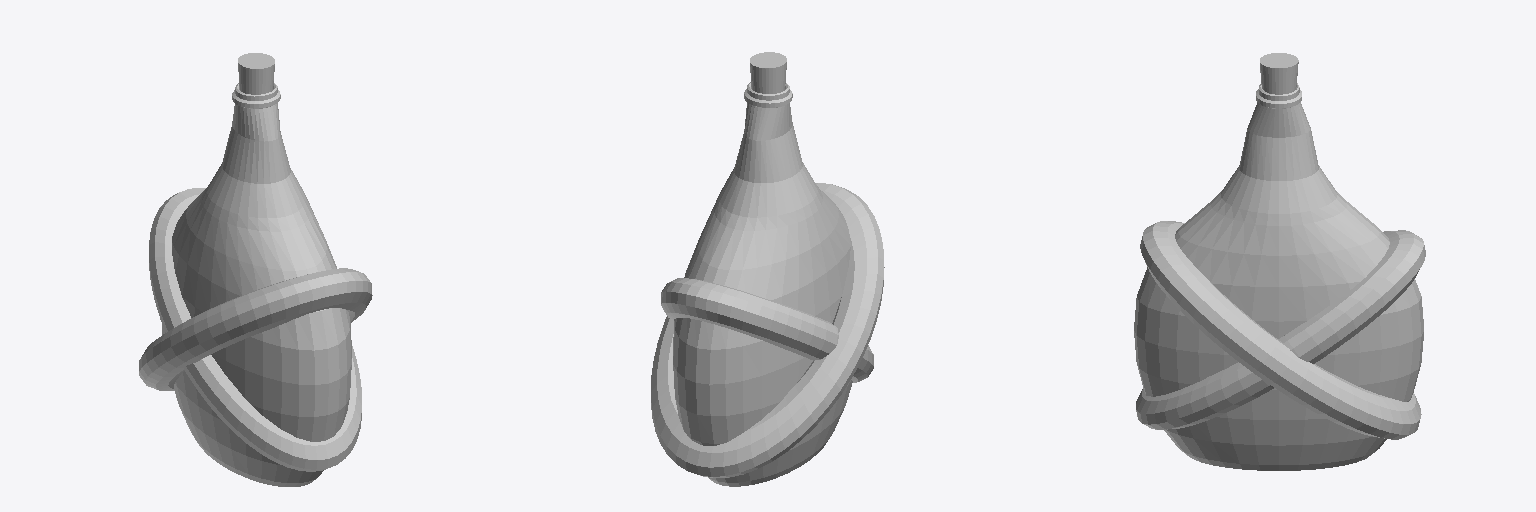
The model's file is gourde.obj.
The picture shows the model from 3 angles: view 1: azimuth 30°, elevation 25°; view 2: azimuth 150°, elevation 25°; view 3: azimuth 270°, elevation 25°; orthographic projection.
Visible parts, largest first — view 1: Sphère, Tore.001, Tore, Cylindre; view 2: Sphère, Tore, Tore.001, Cylindre; view 3: Sphère, Tore, Tore.001, Cylindre.
Boxes of the visible parts, <box> form: Sphère: <box>162,83,351,486</box>; Tore.001: <box>149,188,361,471</box>; Tore: <box>139,268,372,390</box>; Cylindre: <box>238,53,274,94</box>; Sphère: <box>673,82,852,486</box>; Tore: <box>651,183,884,477</box>; Tore.001: <box>661,278,873,382</box>; Cylindre: <box>750,52,786,93</box>; Sphère: <box>1134,83,1423,470</box>; Tore: <box>1140,221,1421,439</box>; Tore.001: <box>1136,230,1425,429</box>; Cylindre: <box>1260,53,1298,94</box>.
Bounding box in the file's own units: 1.5 × 2.97 × 2.01.